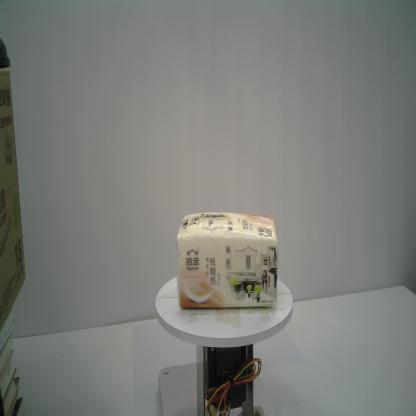Tissue: (176, 209, 280, 311)
